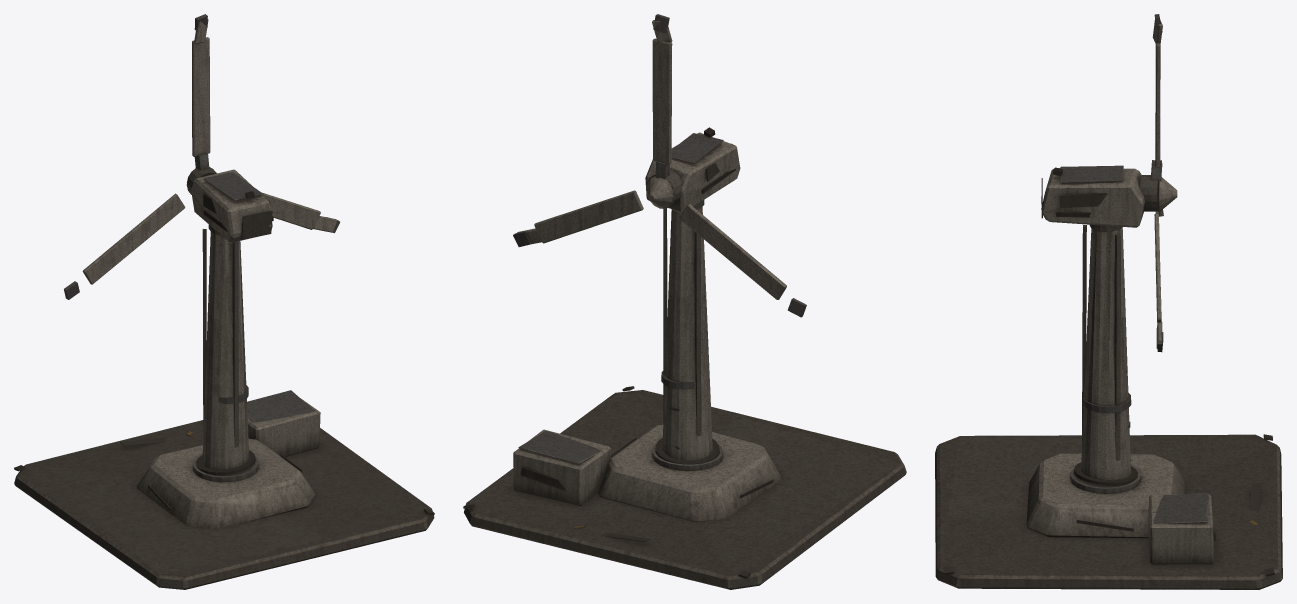
The model's file is ord_windmill_wreck.fbx.
3 renders of one model, left to right at view 1: azimuth 30°, elevation 25°; view 2: azimuth 150°, elevation 25°; view 3: azimuth 270°, elevation 25°, orthographic. The views are drawn at different scales.
Parts seen in each view (by area): view 1: base_bar, rotor_bar; view 2: base_bar, rotor_bar; view 3: base_bar, rotor_bar.
Boxes of the visible parts, x1,y1,x2,y2 form: base_bar: (14, 169, 434, 589); rotor_bar: (64, 14, 339, 299); base_bar: (463, 127, 906, 589); rotor_bar: (513, 14, 806, 317); base_bar: (935, 165, 1282, 589); rotor_bar: (1140, 14, 1177, 352).
Bounding box in the file's own units: 1558 × 2692 × 1564.
Materials: 2 (2 with a texture image).
